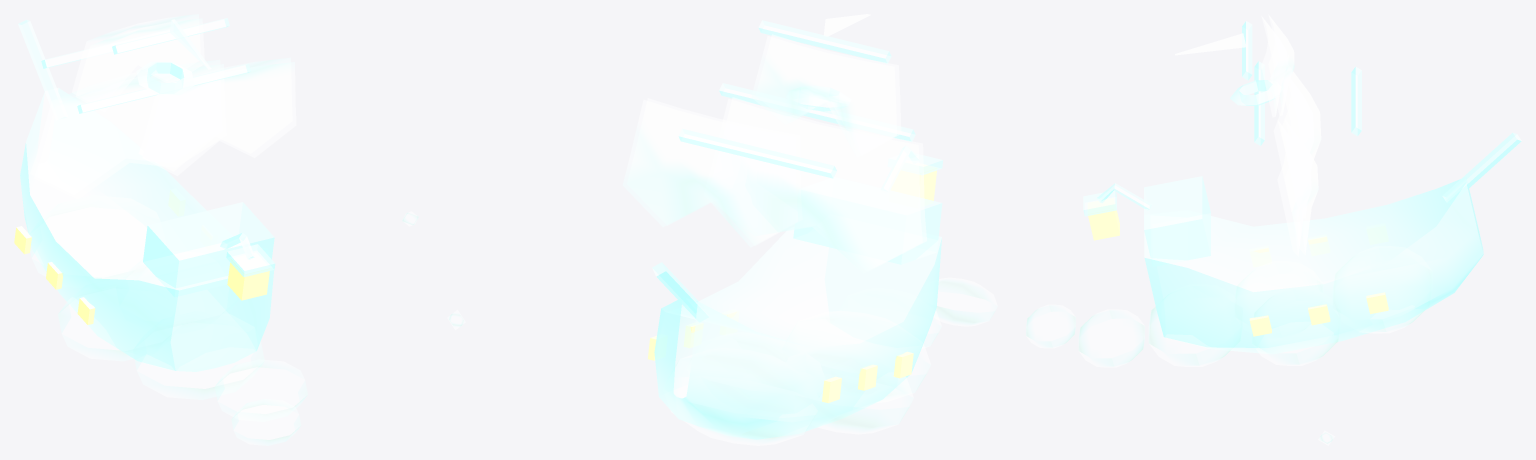
File: navire_fantome.fbx
3 views of the same model, side by side, from view 1: azimuth 30°, elevation 25°; view 2: azimuth 150°, elevation 25°; view 3: azimuth 270°, elevation 25° (orthographic). The views are drawn at different scales.
Parts seen in each view (by area): view 1: Navire, Anim_VoileGrande, Anim_VoileMisaine, Anim_VoileHaute, Anim_Flamme; view 2: Navire, Anim_VoileGrande, Anim_VoileMisaine, Anim_VoileHaute; view 3: Navire, Anim_VoileGrande, Anim_VoileMisaine, Anim_VoileHaute, Anim_Flamme.
Boxes of the visible parts, x1=… form: Navire: x1=14, y1=18, x2=307, y2=445; Anim_VoileGrande: x1=30, y1=59, x2=226, y2=198; Anim_VoileMisaine: x1=139, y1=57, x2=296, y2=175; Anim_VoileHaute: x1=72, y1=14, x2=204, y2=112; Anim_Flamme: x1=170, y1=19, x2=211, y2=69; Navire: x1=648, y1=20, x2=997, y2=445; Anim_VoileGrande: x1=704, y1=97, x2=926, y2=273; Anim_VoileMisaine: x1=623, y1=98, x2=798, y2=247; Anim_VoileHaute: x1=751, y1=34, x2=901, y2=155; Navire: x1=1026, y1=21, x2=1521, y2=367; Anim_VoileGrande: x1=1273, y1=65, x2=1321, y2=211; Anim_VoileMisaine: x1=1277, y1=120, x2=1318, y2=256; Anim_VoileHaute: x1=1261, y1=14, x2=1294, y2=117; Anim_Flamme: x1=1175, y1=33, x2=1245, y2=55.
Size of the model in its own units: 0.9734 by 0.8088 by 1.12.
